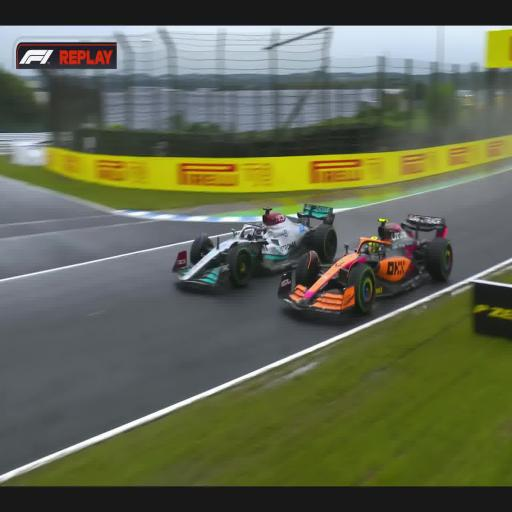f1_car: (278, 214, 452, 313), (173, 204, 337, 288)
